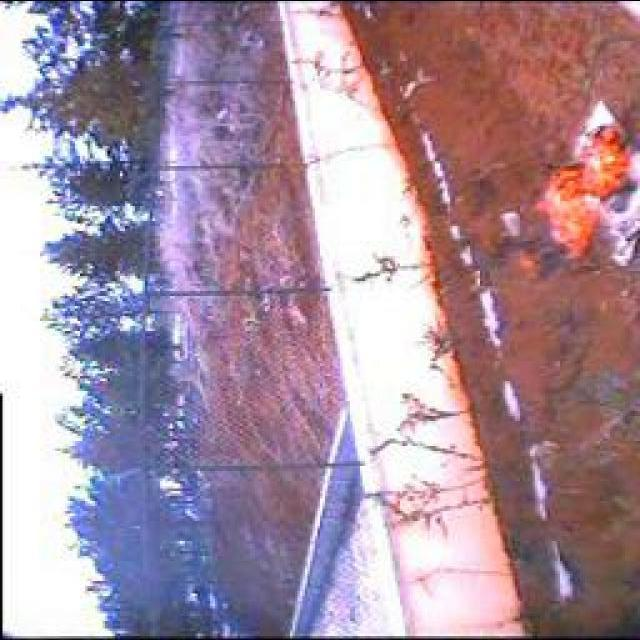Fire: (518, 116, 633, 276)
